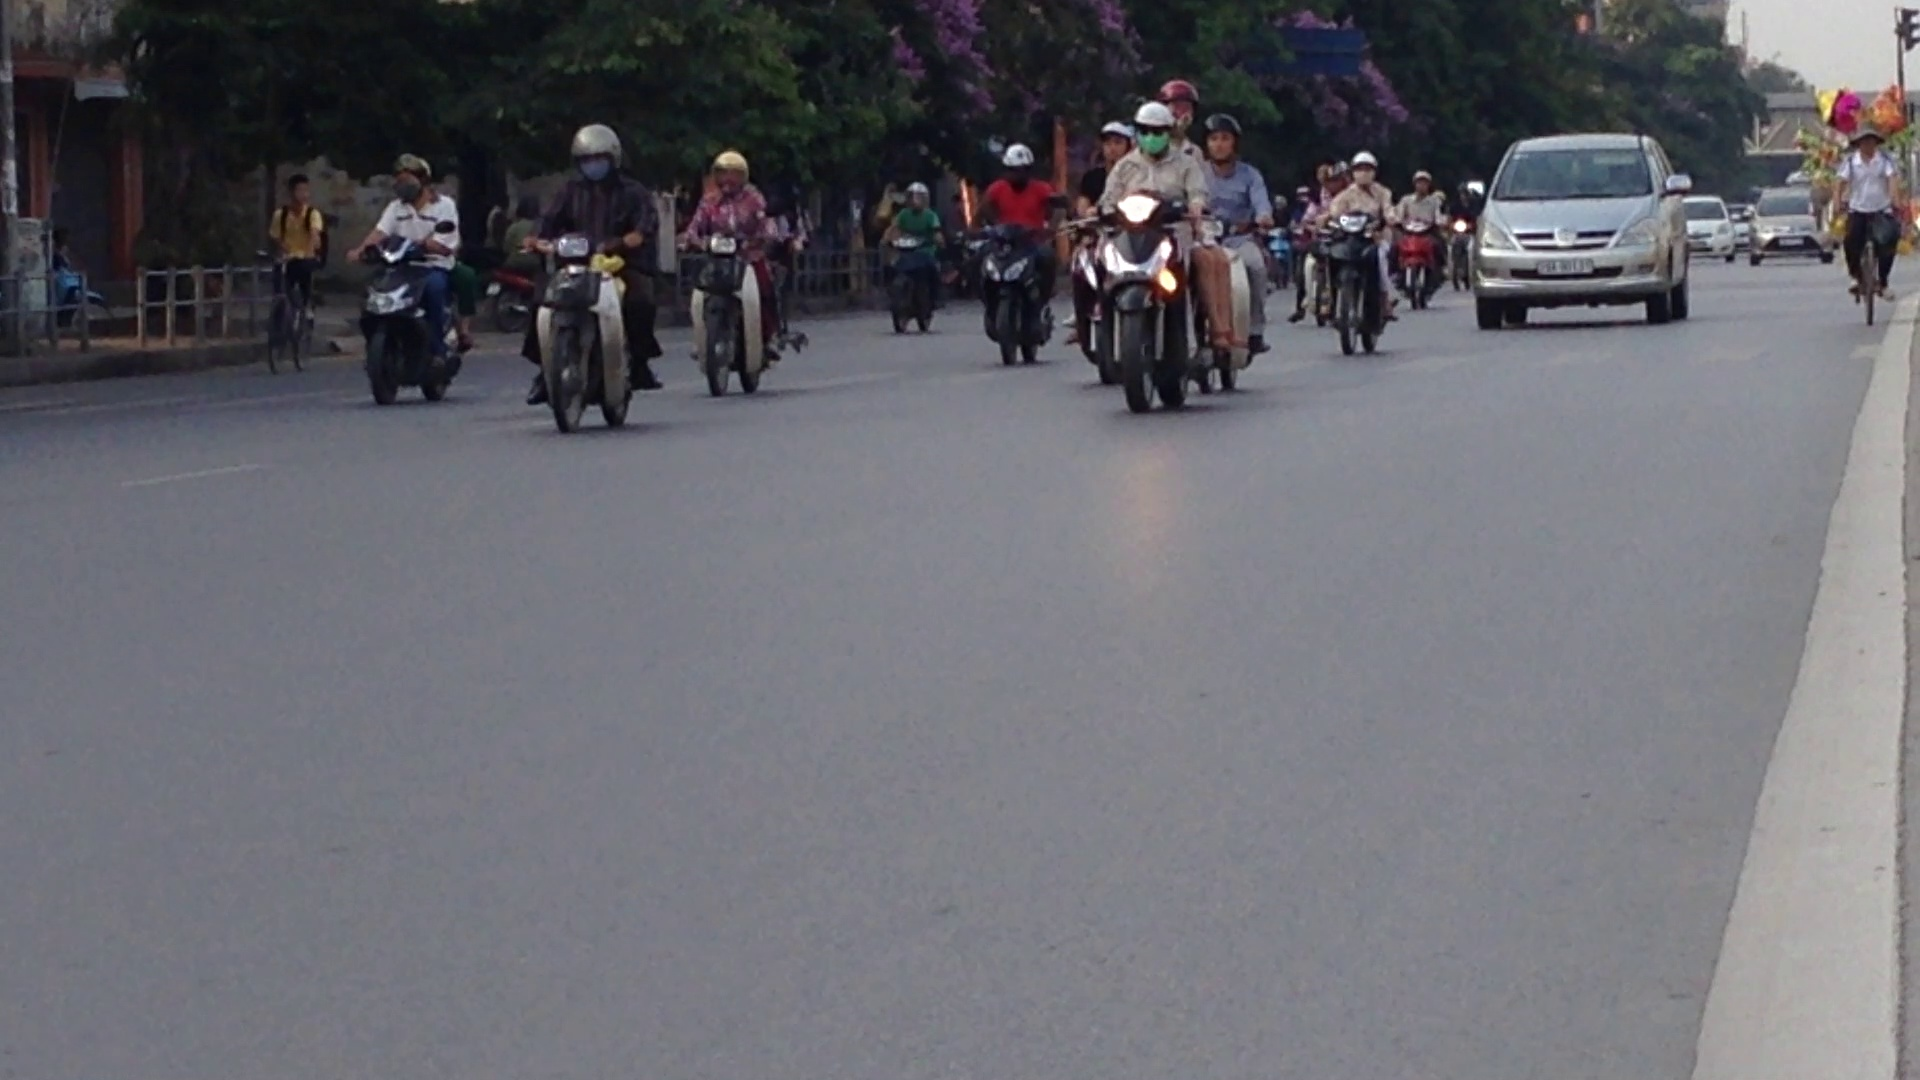vehicle-plate: (1528, 255, 1600, 280)
